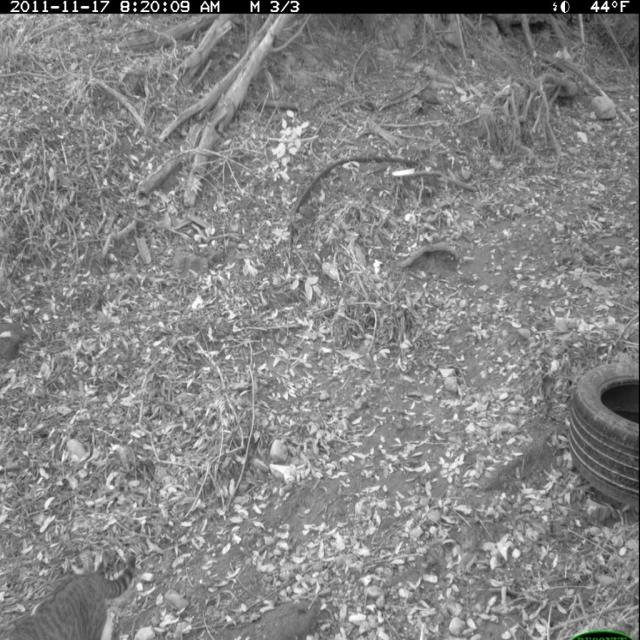cat: (4, 544, 141, 640)
